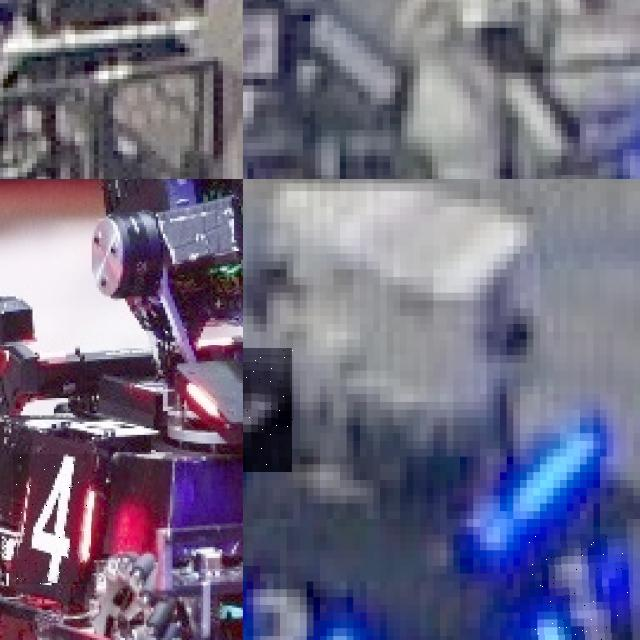B3: (519, 534, 633, 640), (243, 573, 360, 640), (243, 347, 293, 472)
R4: (14, 454, 92, 584)
